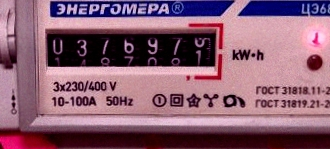0: (50, 34, 64, 55)
1: (193, 47, 204, 65)
3: (74, 36, 88, 56)
6: (121, 32, 135, 53)
7: (169, 33, 182, 56), (97, 34, 111, 55)
9: (145, 34, 158, 55)
screen: (37, 17, 228, 83)
